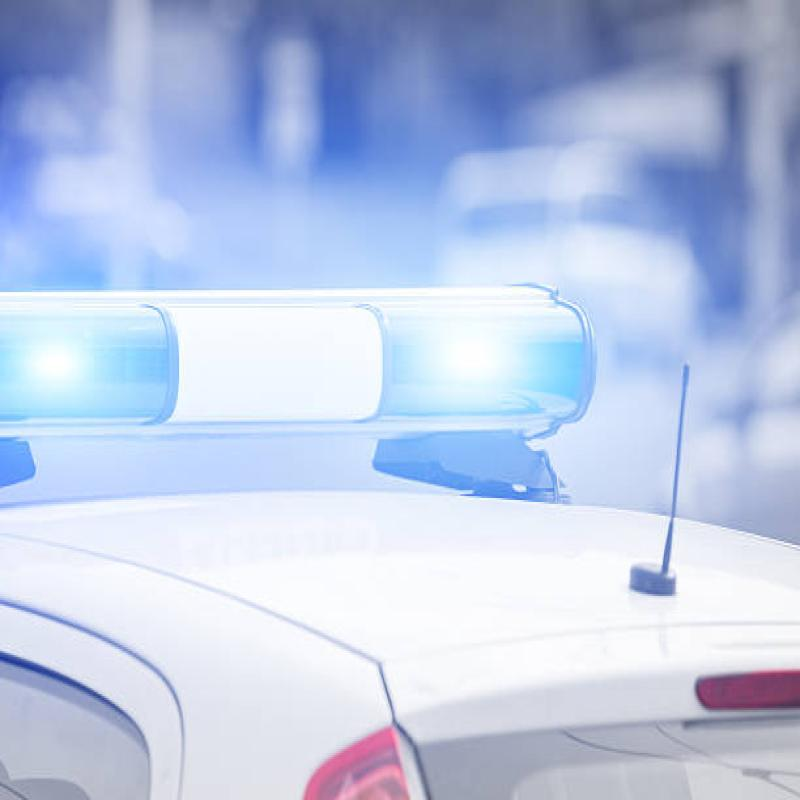AmbulanceSiren: (0, 245, 634, 486)
